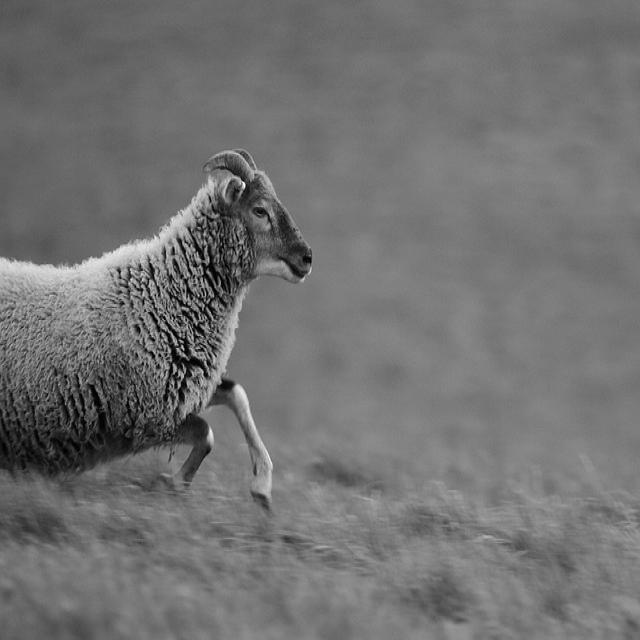goat: (0, 151, 312, 505)
